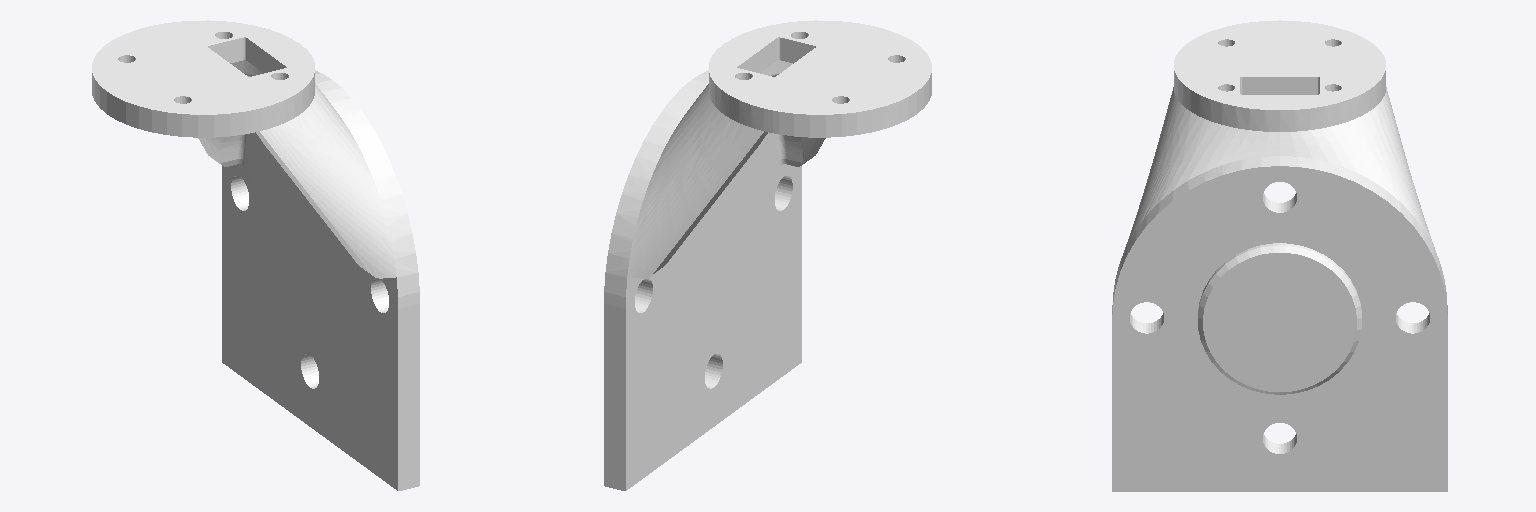
URDF robot description (装配体2):
<?xml version="1.0" encoding="utf-8"?>
<!-- This URDF was automatically created by SolidWorks to URDF Exporter! Originally created by Stephen Brawner (brawner@gmail.com) 
     Commit Version: 1.6.0-4-g7f85cfe  Build Version: 1.6.7995.38578
     For more information, please see http://wiki.ros.org/sw_urdf_exporter -->
<robot
  name="装配体2">
  <link
    name="base_link">
    <inertial>
      <origin
        xyz="-0.010093 -1.3748E-06 0.0074025"
        rpy="0 0 0" />
      <mass
        value="0.027271" />
      <inertia
        ixx="2.1633E-05"
        ixy="-9.7425E-11"
        ixz="4.5637E-06"
        iyy="1.7676E-05"
        iyz="3.8782E-10"
        izz="1.0397E-05" />
    </inertial>
    <visual>
      <origin
        xyz="0 0 0"
        rpy="0 0 0" />
      <geometry>
        <mesh
          filename="package://装配体2/meshes/base_link.STL" />
      </geometry>
      <material
        name="">
        <color
          rgba="1 1 1 1" />
      </material>
    </visual>
    <collision>
      <origin
        xyz="0 0 0"
        rpy="0 0 0" />
      <geometry>
        <mesh
          filename="package://装配体2/meshes/base_link.STL" />
      </geometry>
    </collision>
  </link>
</robot>

--- Facts derived from the render (not from the file) ---
The picture shows the robot from 3 angles, left to right: view 1: azimuth 30°, elevation 25°; view 2: azimuth 150°, elevation 25°; view 3: azimuth 270°, elevation 25°; orthographic projection.
Model 装配体2 with 1 links and 0 joints (none), rooted at base_link, posed every joint at zero.
Visible links, largest first — view 1: base_link; view 2: base_link; view 3: base_link.
Link boxes in pixels (<box>): base_link: <box>92,20,419,490</box>; base_link: <box>604,20,931,490</box>; base_link: <box>1112,20,1447,491</box>.
Bounding box of the posed robot: 0.0485 × 0.063 × 0.076 m (x, y, z).
1 mesh visuals loaded from 1 distinct referenced files (1 binary STL).
